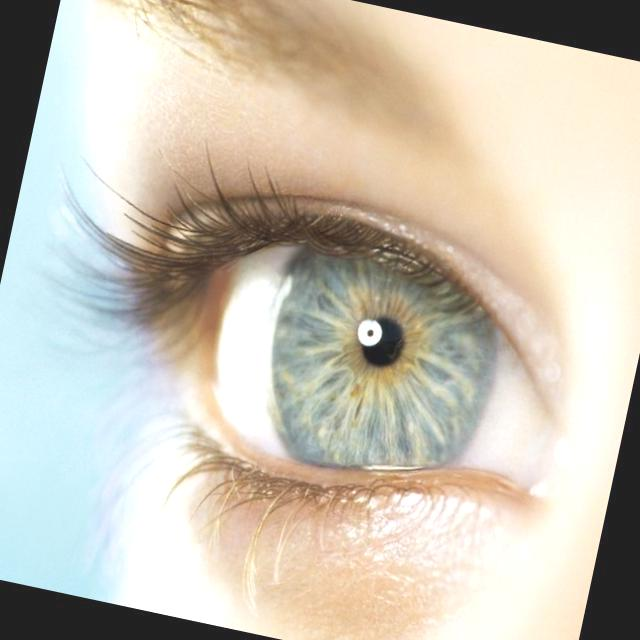Normal: (38, 188, 592, 561)
